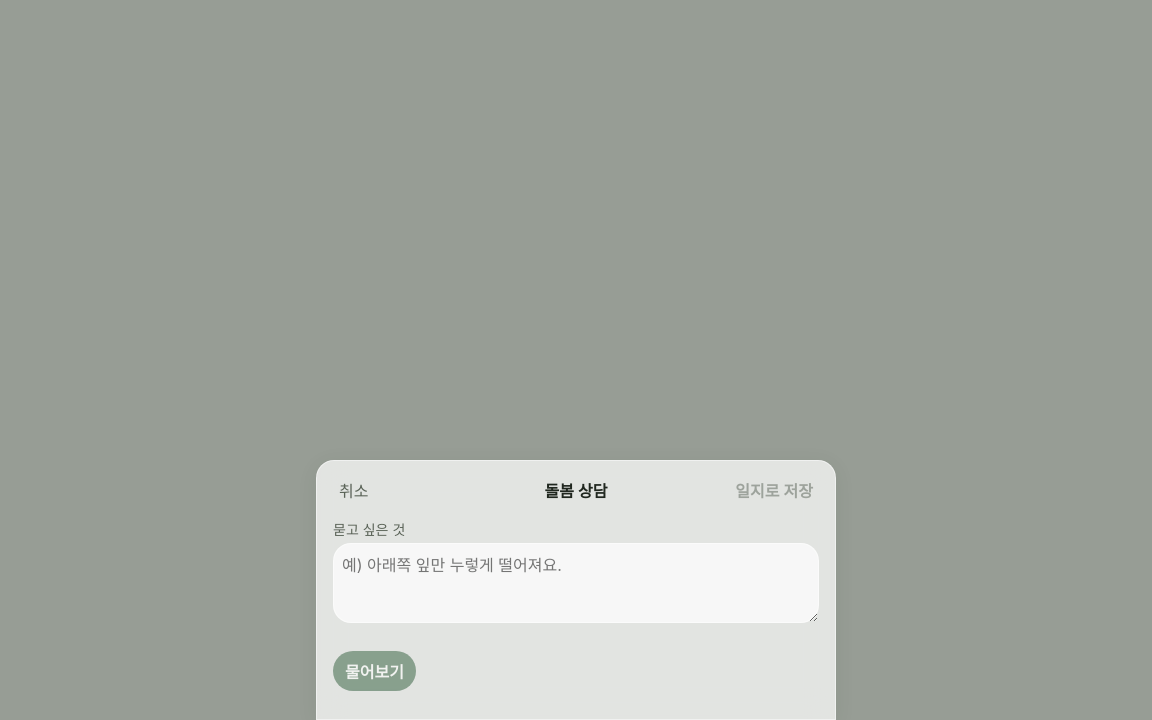
ConsultSheet — 앱이 직접 묻는 경로 › 물어보면 답을 보여 준다
Type "잎이 처져요" into the text box labelled "묻고 싶은 것" at point(576, 583), box [333, 543, 819, 623]
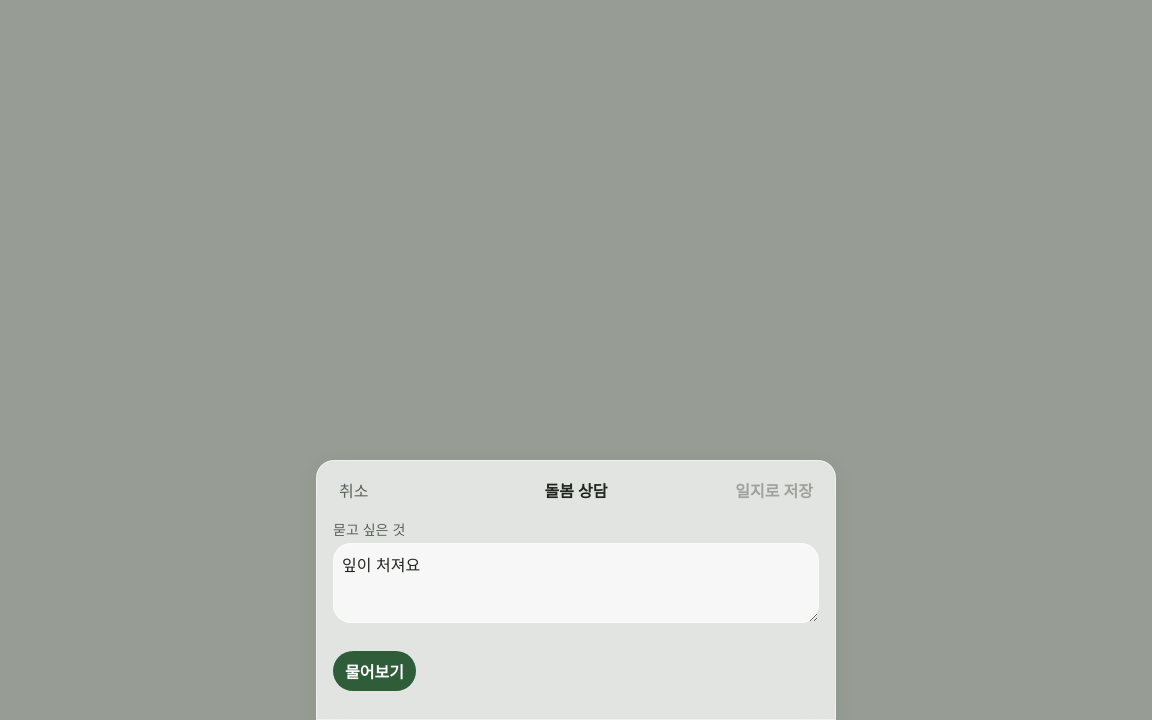
Click the button "물어보기" at point(374, 671), box [333, 651, 416, 691]
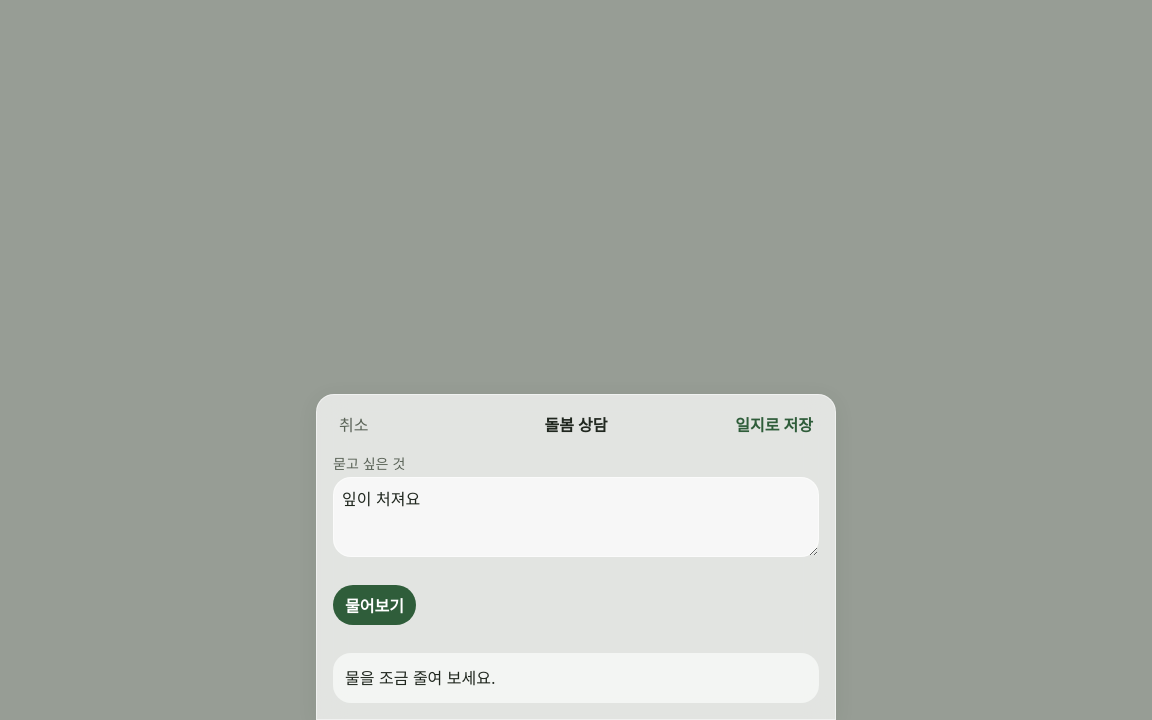
expect the text "물을 조금 줄여 보세요." is shown: met, box [333, 653, 819, 703]
